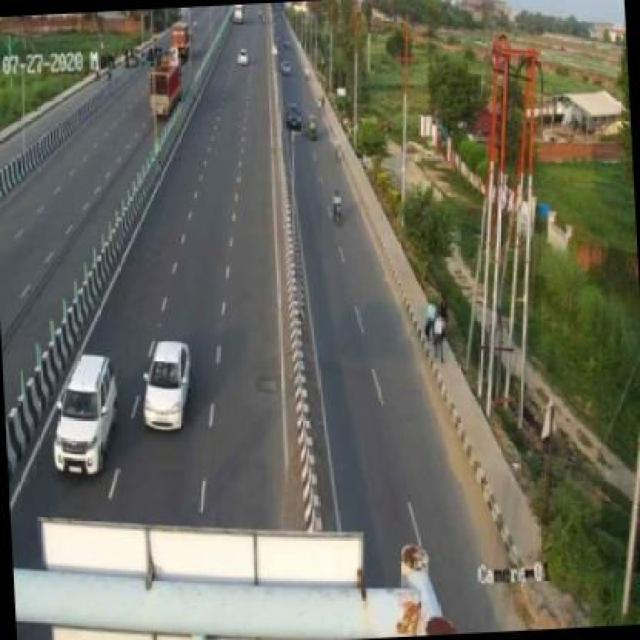car: (43, 344, 126, 478), (138, 335, 194, 434), (285, 97, 306, 134), (305, 109, 320, 146)
